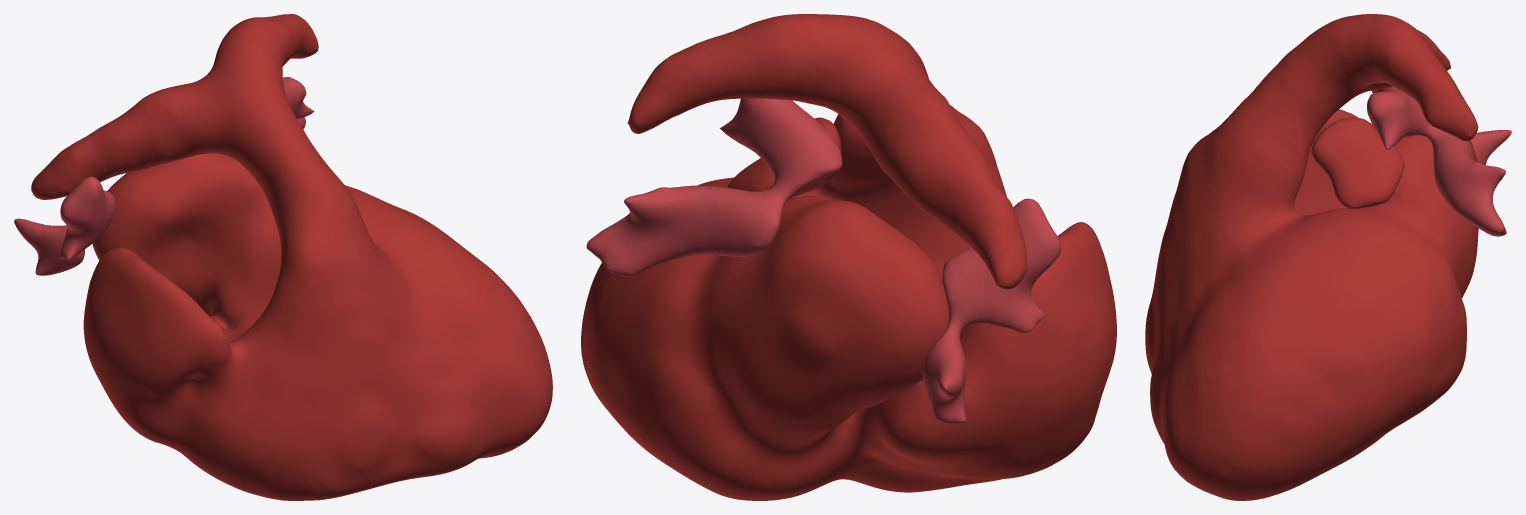
Rendered from s1045_heart.glb.
3 views of the same model, side by side, from view 1: azimuth 30°, elevation 25°; view 2: azimuth 150°, elevation 25°; view 3: azimuth 270°, elevation 25° (orthographic). The views are drawn at different scales.
Visible parts, largest first — view 1: heart, pulmonary_vein; view 2: heart, pulmonary_vein, atrial_appendage_left; view 3: heart, pulmonary_vein, atrial_appendage_left.
Boxes of the visible parts, x1=… form: heart: x1=31, y1=14, x2=552, y2=500; pulmonary_vein: x1=14, y1=77, x2=314, y2=275; heart: x1=581, y1=14, x2=1116, y2=500; pulmonary_vein: x1=586, y1=98, x2=1061, y2=423; atrial_appendage_left: x1=727, y1=117, x2=841, y2=198; heart: x1=1145, y1=14, x2=1478, y2=500; pulmonary_vein: x1=1367, y1=86, x2=1511, y2=236; atrial_appendage_left: x1=1311, y1=117, x2=1404, y2=209.
Bounding box in the file's own units: 0.1436 × 0.1356 × 0.1118.
